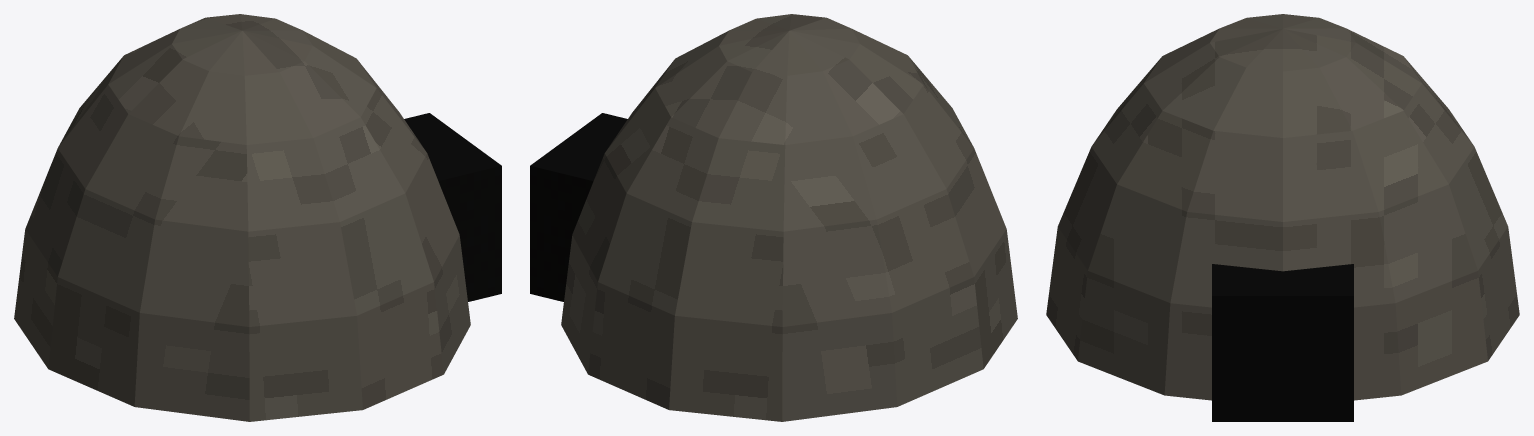
File: choza_fieltro.glb
3 views of the same model, side by side, from view 1: azimuth 30°, elevation 25°; view 2: azimuth 150°, elevation 25°; view 3: azimuth 270°, elevation 25° (orthographic).
Visible parts, largest first — view 1: cupula, entrada; view 2: cupula, entrada; view 3: cupula, entrada.
Boxes of the visible parts, x1,y1,x2,y2 form: cupula: (14, 14, 470, 421); entrada: (404, 113, 501, 301); cupula: (561, 14, 1017, 421); entrada: (530, 113, 627, 301); cupula: (1046, 14, 1519, 400); entrada: (1212, 264, 1353, 421).
Bounding box in the file's own units: 3 × 2 × 3.
1 material, 1 textured.
